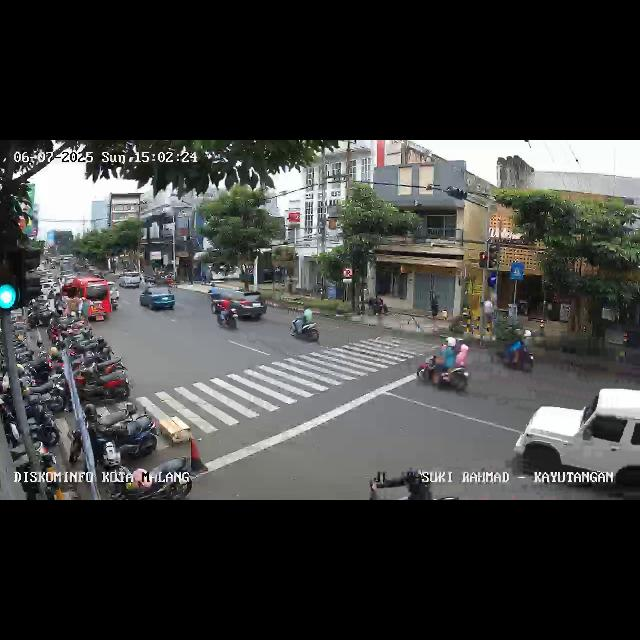car: (512, 387, 638, 497), (60, 278, 111, 324), (210, 288, 266, 328), (138, 285, 176, 313), (120, 271, 144, 289)
motorcycle: (414, 336, 474, 396), (496, 329, 536, 375), (289, 306, 321, 346), (220, 295, 240, 329), (112, 286, 120, 310)
